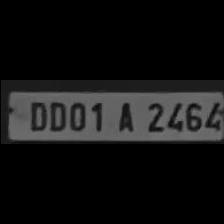0: (64, 98, 88, 132)
1: (86, 99, 106, 133)
2: (140, 99, 164, 133)
4: (202, 99, 222, 131), (164, 98, 182, 132)
6: (182, 100, 200, 132)
A: (110, 97, 138, 132)
D: (23, 98, 47, 132), (45, 98, 65, 132)
